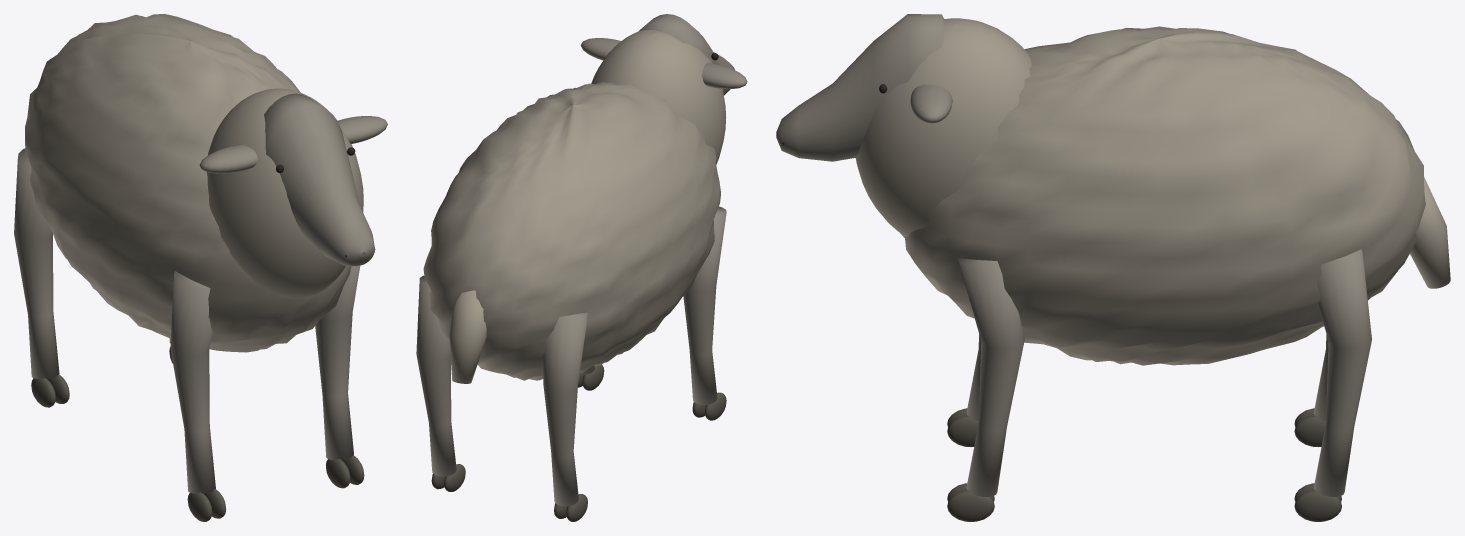
File: abraham-ewe.glb
The picture shows the model from 3 angles, left to right: view 1: azimuth 30°, elevation 25°; view 2: azimuth 150°, elevation 25°; view 3: azimuth 270°, elevation 25°; orthographic projection. The views are drawn at different scales.
Visible parts, largest first — view 1: abraham-ewe-ewe-natural-fleece, abraham-ewe-ewe-face-and-legs, abraham-ewe-ewe-face-and-legs.001, abraham-ewe-ewe-split-hooves; view 2: abraham-ewe-ewe-natural-fleece, abraham-ewe-ewe-face-and-legs, abraham-ewe-ewe-face-and-legs.001, abraham-ewe-ewe-natural-fleece.001, abraham-ewe-ewe-split-hooves; view 3: abraham-ewe-ewe-natural-fleece, abraham-ewe-ewe-face-and-legs, abraham-ewe-ewe-face-and-legs.001, abraham-ewe-ewe-split-hooves, abraham-ewe-ewe-natural-fleece.001.
Boxes of the visible parts, <box> form: abraham-ewe-ewe-natural-fleece: <box>25,14,363,352</box>; abraham-ewe-ewe-face-and-legs: <box>14,148,360,493</box>; abraham-ewe-ewe-face-and-legs.001: <box>199,93,387,266</box>; abraham-ewe-ewe-split-hooves: <box>31,347,364,521</box>; abraham-ewe-ewe-natural-fleece: <box>423,30,726,380</box>; abraham-ewe-ewe-face-and-legs: <box>416,206,726,506</box>; abraham-ewe-ewe-face-and-legs.001: <box>580,14,747,95</box>; abraham-ewe-ewe-natural-fleece.001: <box>449,290,486,383</box>; abraham-ewe-ewe-split-hooves: <box>431,364,726,521</box>; abraham-ewe-ewe-natural-fleece: <box>855,18,1425,365</box>; abraham-ewe-ewe-face-and-legs: <box>957,249,1371,496</box>; abraham-ewe-ewe-face-and-legs.001: <box>776,14,952,161</box>; abraham-ewe-ewe-split-hooves: <box>947,408,1341,521</box>; abraham-ewe-ewe-natural-fleece.001: <box>1410,177,1450,288</box>.
Bounding box in the file's own units: 0.4355 × 0.75 × 0.9905.
